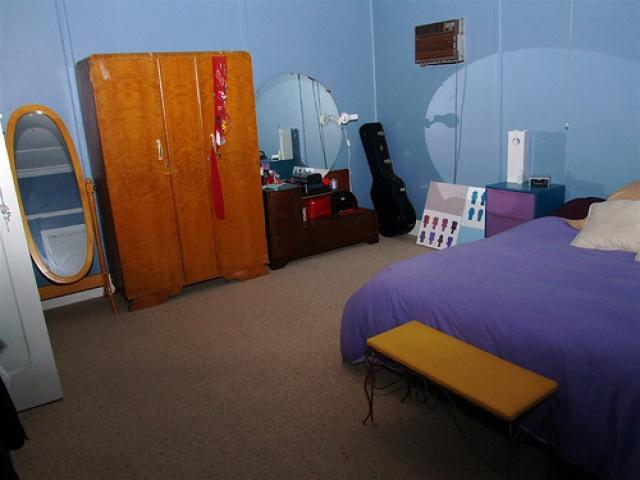Lemari: (87, 48, 272, 312)
